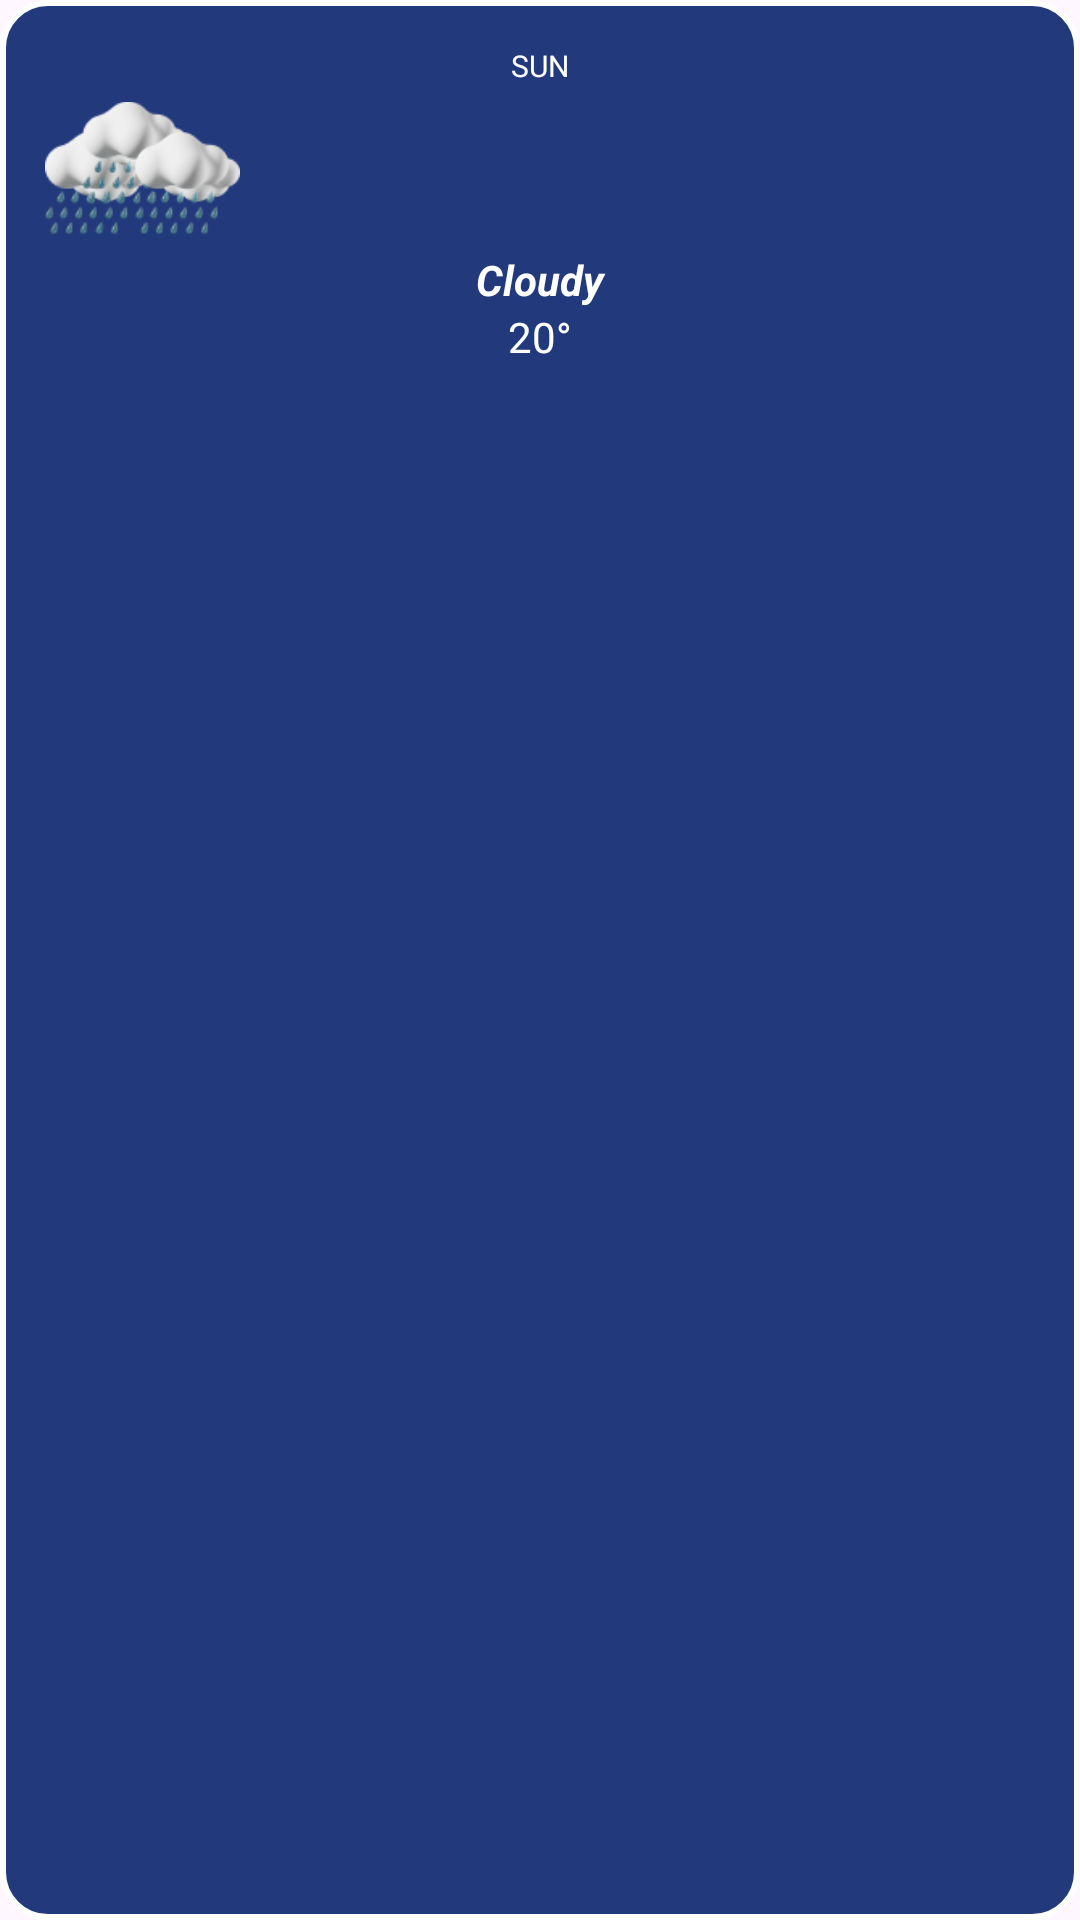

Where to tap for icons on this 1080×1920 app screen, as [x,y]:
rain: [142,168]
